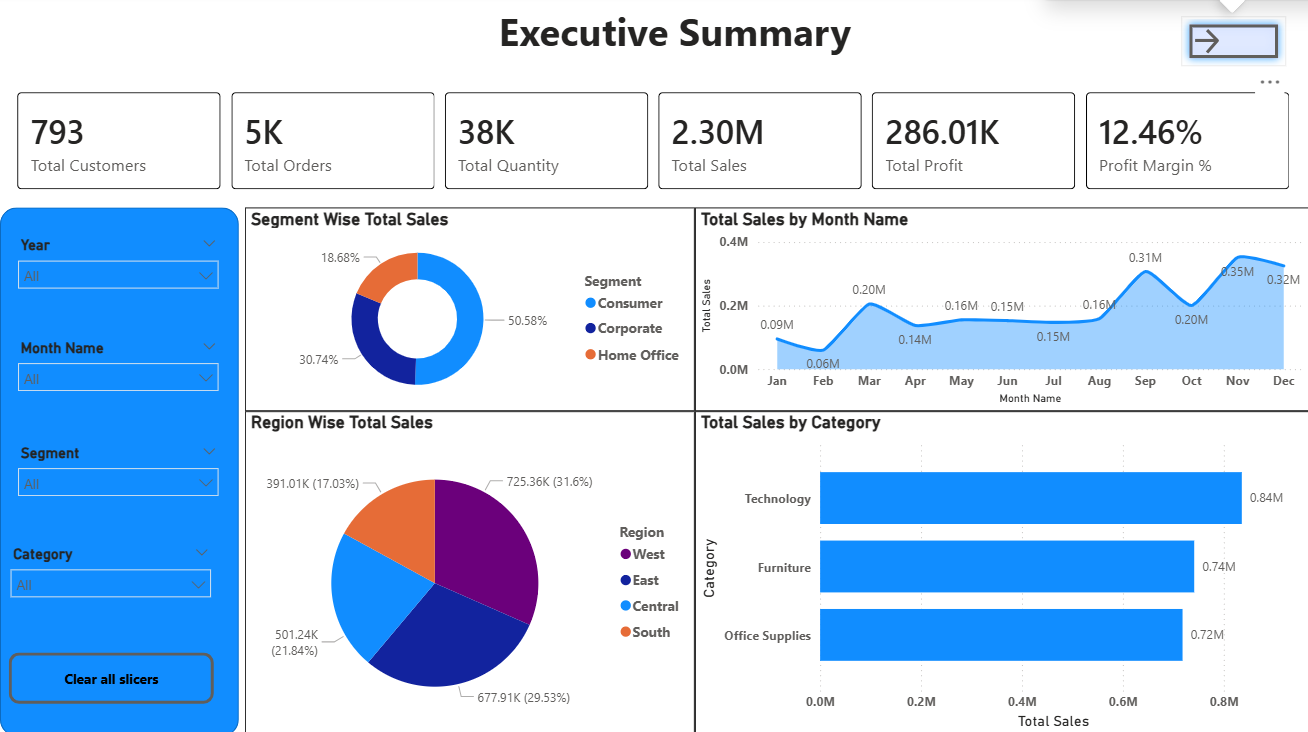

Layout of this report page (visuals, bound fields, positions):
{"tool":"powerbi","page":{"name":"Page 1","canvas":[1280,720],"ordinal":0},"visuals":[{"type":"cardVisual","fields":{"Data":["All measures.Total Customers","All measures.Total Orders","All measures.Total Quantity","All measures.Total Sales","All measures.Total Profit","All measures.Profit Margin %"]},"box":[0,73.4,1280.3,129.6],"z":0},{"type":"textbox","box":[483,0,362,73.4],"z":1},{"type":"shape","box":[0,203,233.6,517.3],"z":2},{"type":"areaChart","fields":{"Category":["Sample - Superstore.Month Name"],"Y":["All measures.Total Sales"]},"box":[679.9,203,600.4,199.3],"z":3},{"type":"pieChart","title":" Region Wise Total Sales","fields":{"Category":["Sample - Superstore.Region"],"Y":["All measures.Total Sales"]},"box":[239.7,402.3,440.2,317.9],"z":4},{"type":"donutChart","title":" Segment Wise Total Sales","fields":{"Category":["Sample - Superstore.Segment"],"Y":["All measures.Total Sales"]},"box":[239.7,203,440.2,199.3],"z":5},{"type":"barChart","fields":{"Category":["Sample - Superstore.Category"],"Y":["All measures.Total Sales"]},"box":[679.9,402.3,600.4,317.9],"z":6},{"type":"slicer","fields":{"Values":["Sample - Superstore.Year"]},"box":[7.3,226.2,216.4,56.3],"z":7},{"type":"slicer","fields":{"Values":["Sample - Superstore.Month Name"]},"box":[7.3,326.5,216.4,66],"z":8},{"type":"slicer","fields":{"Values":["Sample - Superstore.Segment"]},"box":[7.3,429.2,216.4,66],"z":9},{"type":"slicer","fields":{"Values":["Sample - Superstore.Category"]},"box":[0,528.3,216.4,66],"z":10},{"type":"actionButton","box":[8.6,638.3,200.5,50.1],"z":11},{"type":"actionButton","box":[1155.6,15.9,102.7,48.9],"z":12}]}

Visuals, with their boxes in screenshot pixels (x1, y1, x2, y2), scaled from the page's 1280x720 canvas onto the 1308x732 screenshot:
cardVisual - All measures.Total Customers x All measures.Total Orders: 0 75 1307 206
textbox: 494 0 863 75
shape: 0 206 239 731
areaChart - Sample - Superstore.Month Name x All measures.Total Sales: 695 206 1307 409
" Region Wise Total Sales" pieChart: 245 409 695 731
" Segment Wise Total Sales" donutChart: 245 206 695 409
barChart - Sample - Superstore.Category x All measures.Total Sales: 695 409 1307 731
slicer - Sample - Superstore.Year: 7 230 229 287
slicer - Sample - Superstore.Month Name: 7 332 229 399
slicer - Sample - Superstore.Segment: 7 436 229 503
slicer - Sample - Superstore.Category: 0 537 221 604
actionButton: 9 649 214 700
actionButton: 1181 16 1286 66
